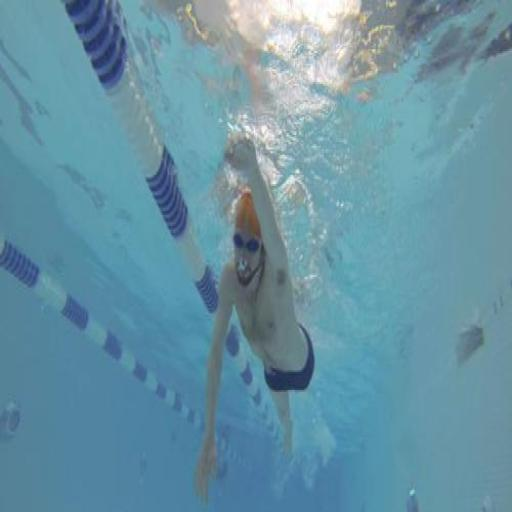swimming: (192, 129, 322, 503)
